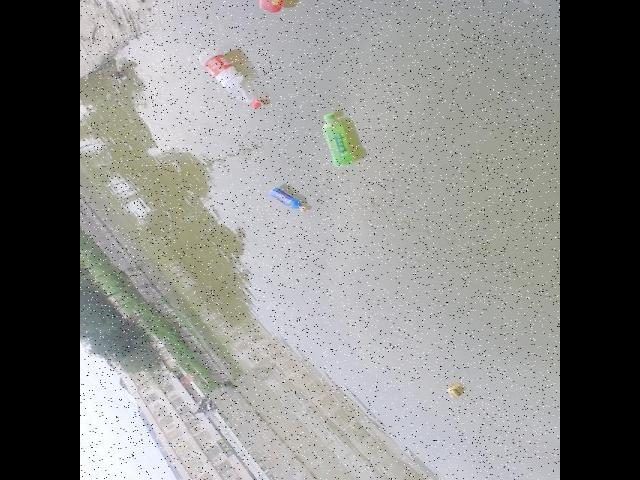Bottle: (196, 39, 266, 114), (318, 104, 362, 168), (269, 181, 317, 220), (254, 0, 304, 19)
